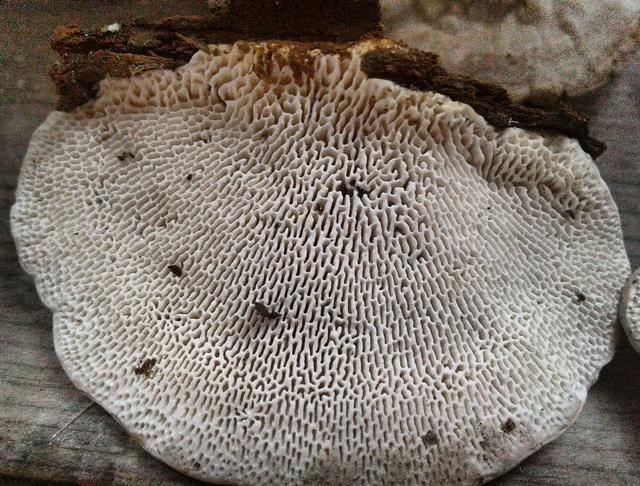poisonous_mushroom: (9, 34, 632, 484)
